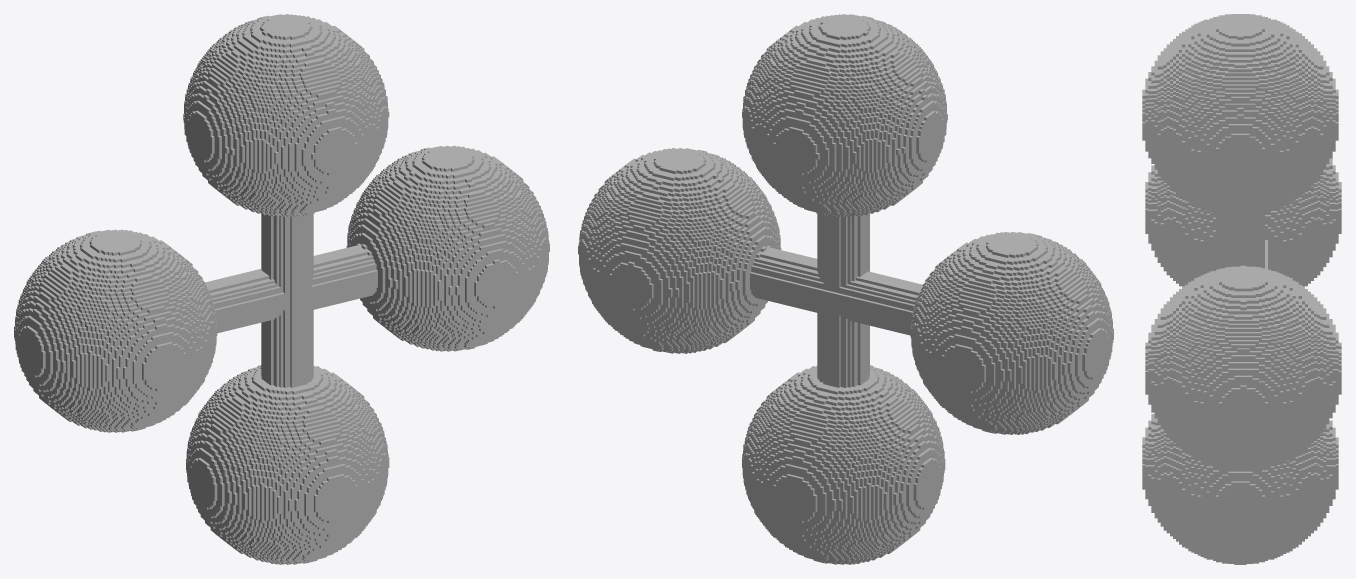
Rendered from SpaceStation.fbx.
3 views of the same model, side by side, from view 1: azimuth 30°, elevation 25°; view 2: azimuth 150°, elevation 25°; view 3: azimuth 270°, elevation 25° (orthographic).
Visible parts, largest first — view 1: Matrix; view 2: Matrix; view 3: Matrix.
Boxes of the visible parts, box(x1,y1,x2,y2) form: Matrix: box(14, 14, 549, 564); Matrix: box(578, 14, 1113, 564); Matrix: box(1142, 14, 1341, 564).
Bounding box in the file's own units: 189 × 189 × 65.
1 material, 1 textured.
